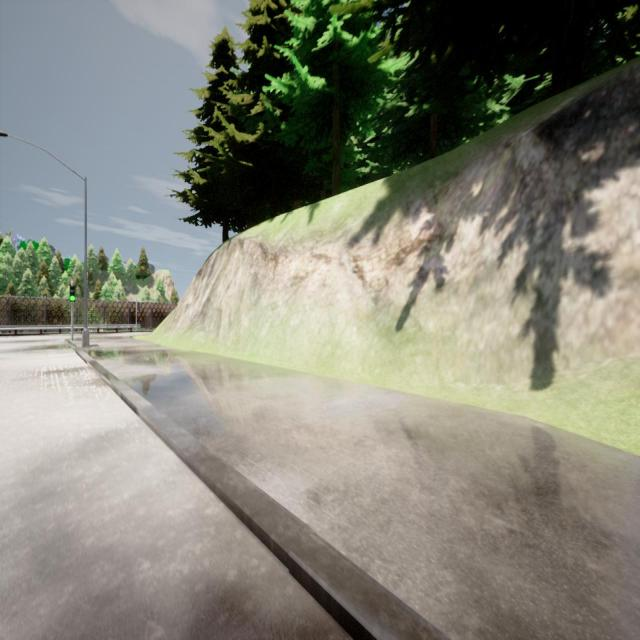traffic_light: (69, 285, 76, 302), (137, 302, 140, 310)
